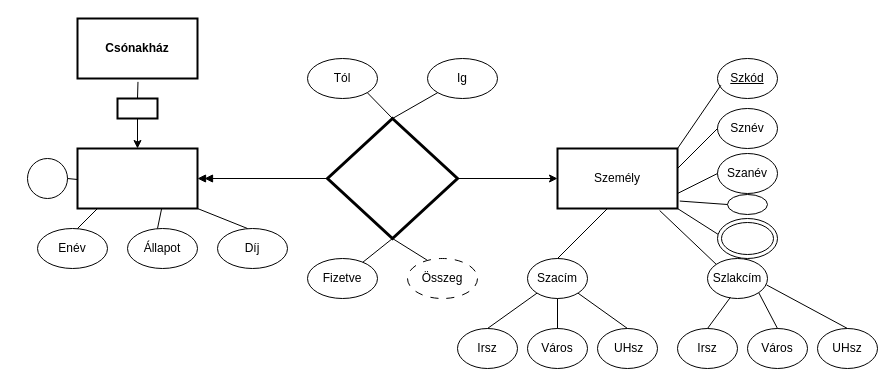
This 895x386 diagram has some shape labels left out. Here are the shapes that lost their labels. From the top down, the box of each, then its label:
(116, 97, 158, 119): HAS_A
(26, 158, 68, 198): Eid
(76, 147, 198, 209): Eszköz
(326, 116, 458, 240): kölcsönző
(726, 194, 768, 214): email
(716, 218, 778, 258): Tszám
